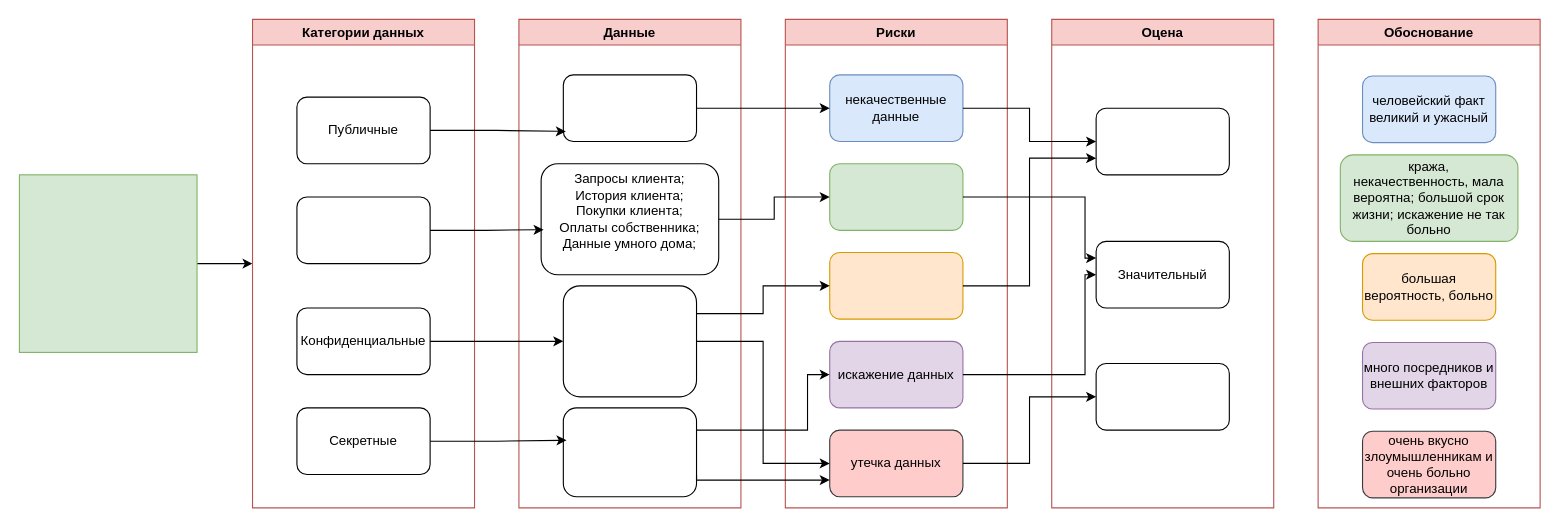
Some shapes in this 1560 by 527 pixel diagram are drawn without their labels. Here are the shapes that lost their labels. From the top down, the centre of each, then its label:
[629,108]: Открытые данные недвижки; Работы по недвижке ;
[1162,141]: Незначительный
[896,196]: потеря данных
[363,230]: Внутренние
[107,263]: Безопасность данных
[896,285]: обесценивание данных
[629,341]: ФИО; Телефон; Епочта; Собственность собственника; Закрытые данные недвижки;
[1162,396]: Критический
[629,452]: Финансовая информация и сделки; данные поставщиков ЖКХ;
